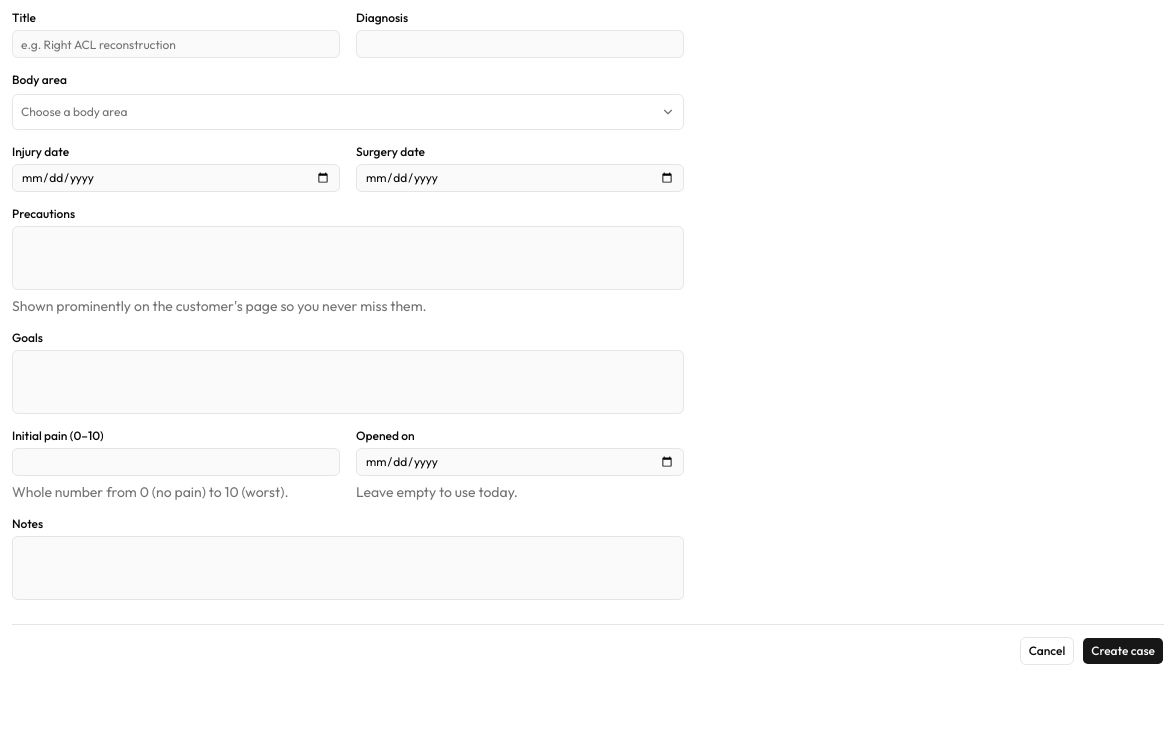
Test case: CaseForm › shows pain-out-of-range, side-needs-area and date errors
This screenshot has width=1176, height=732.
Click the button "Create case": (1123, 651) x1=1082 y1=637 x2=1164 y2=665
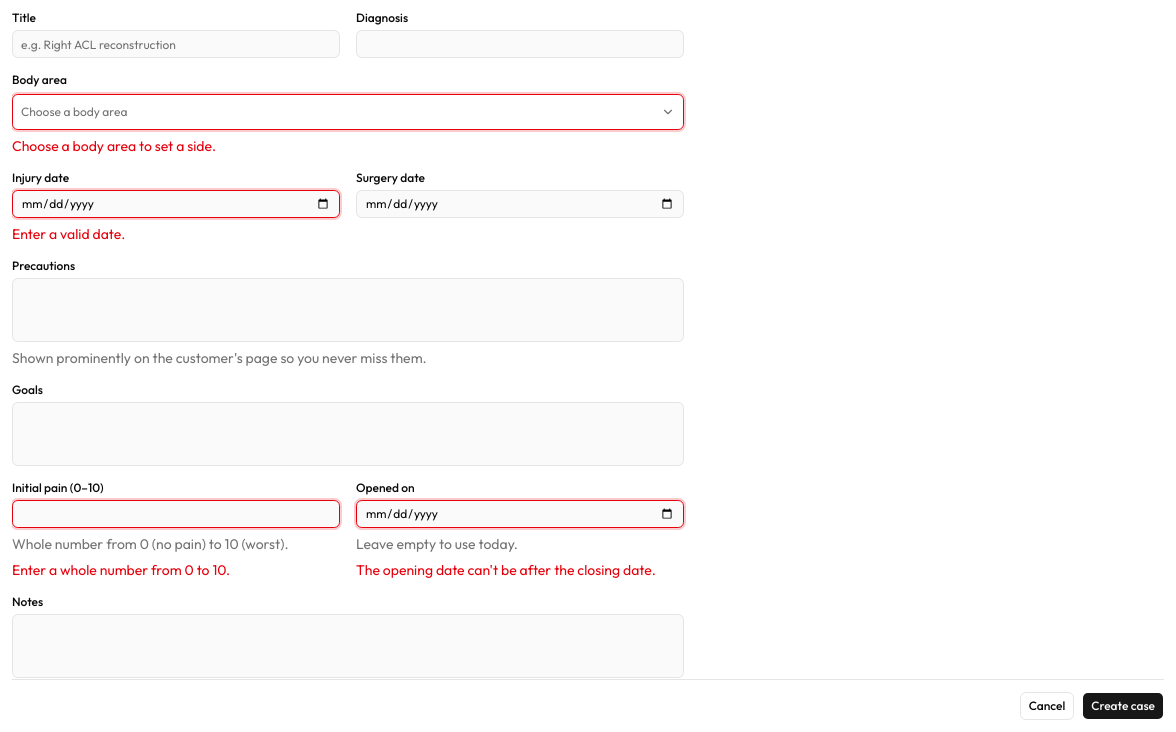
Expected: the text "Enter a whole number from 0 to 10." is shown, x1=12 y1=561 x2=230 y2=579
Expected: the text "Choose a body area to set a side." is shown, x1=12 y1=137 x2=216 y2=155
Expected: the text "The opening date can't be after the closing date." is shown, x1=356 y1=560 x2=684 y2=580
